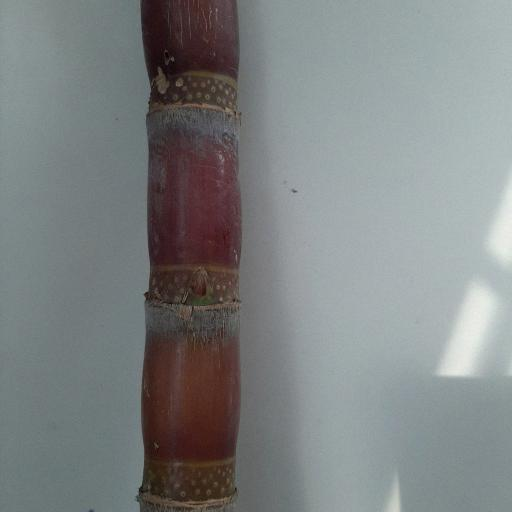Bud: (187, 266, 214, 297)
